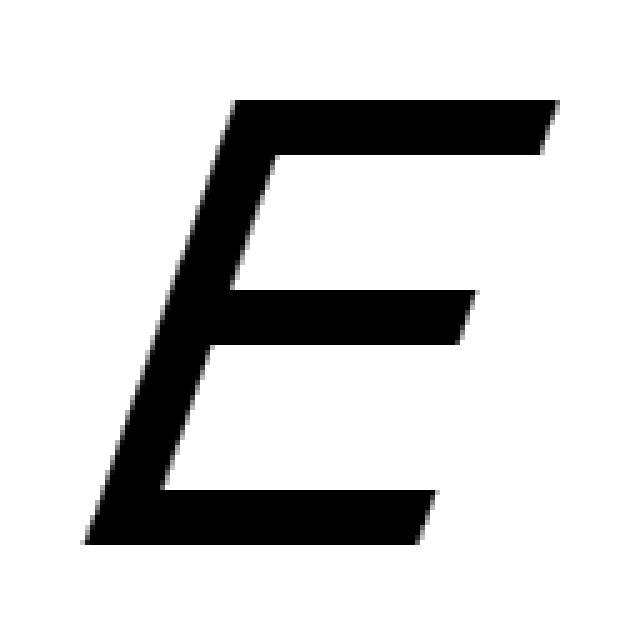E: (95, 100, 560, 540)
